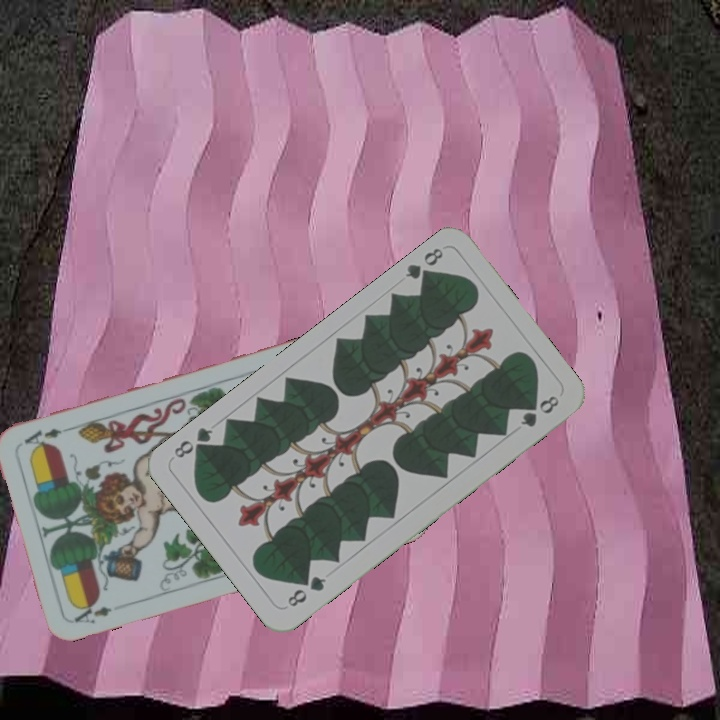EA: (70, 597, 115, 626)
G8: (401, 243, 446, 286), (283, 571, 329, 610)
